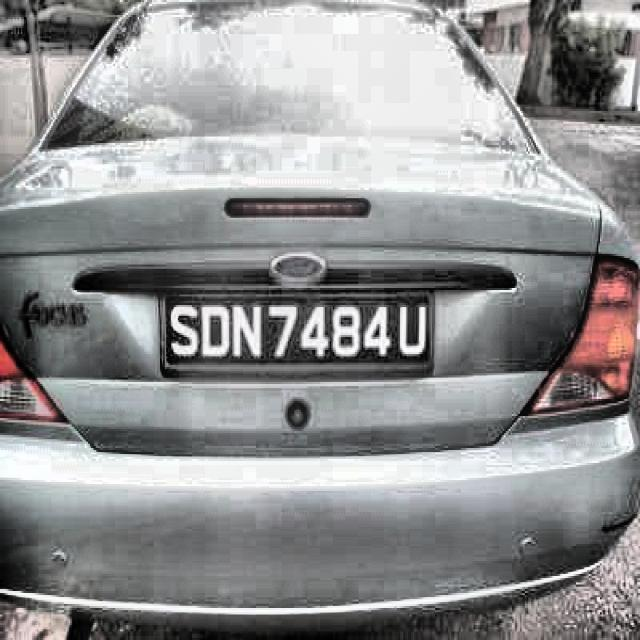license_plate: (161, 292, 435, 378)
